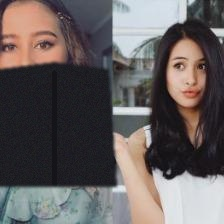Cadar_Niqab: (0, 0, 116, 186)
